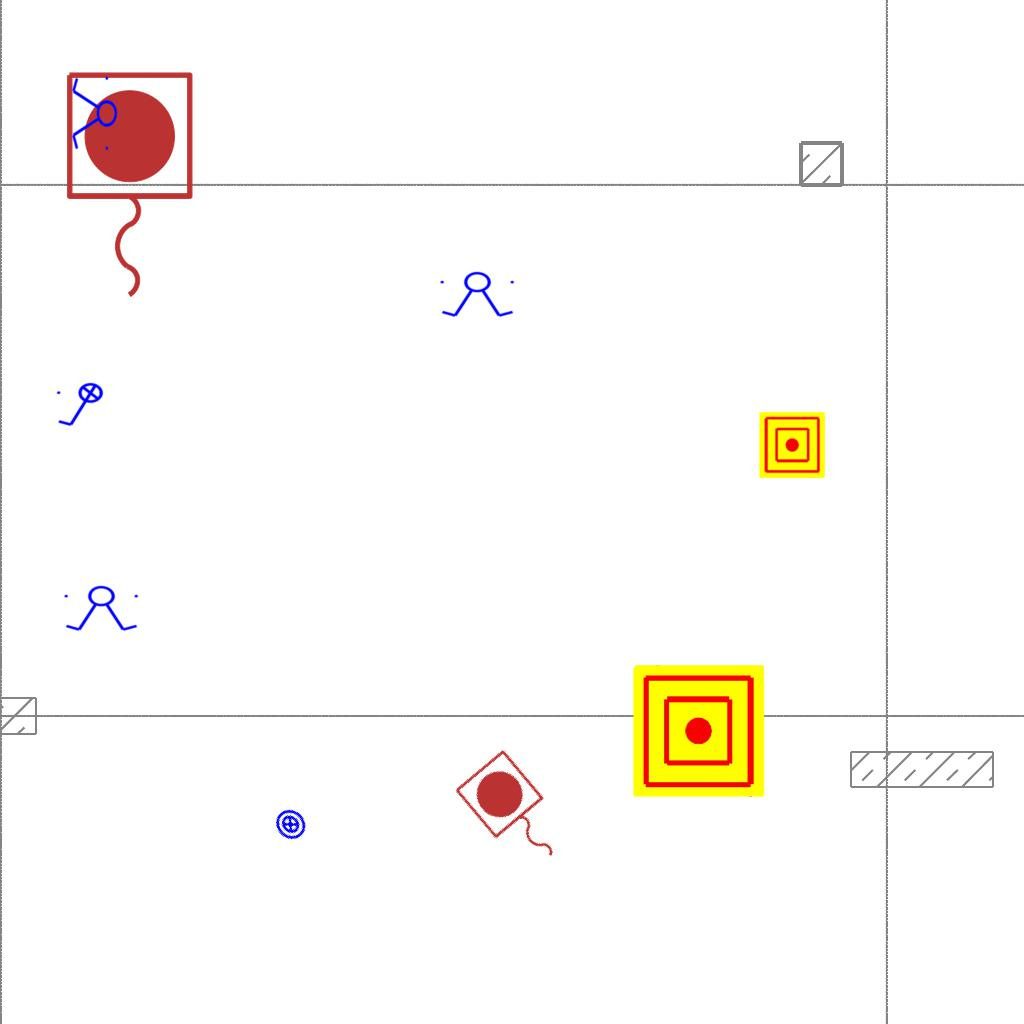Ausschalter_beleuchtet: (54, 382, 110, 430)
NAM-Nichtautomatischer_Melder: (633, 665, 765, 797), (759, 412, 825, 478)
Serienschalter: (436, 271, 520, 319), (60, 585, 144, 633), (70, 72, 118, 156)
Taster_beleuchtet: (267, 801, 314, 848)
Zugtaster: (56, 64, 200, 308), (448, 744, 582, 884)
